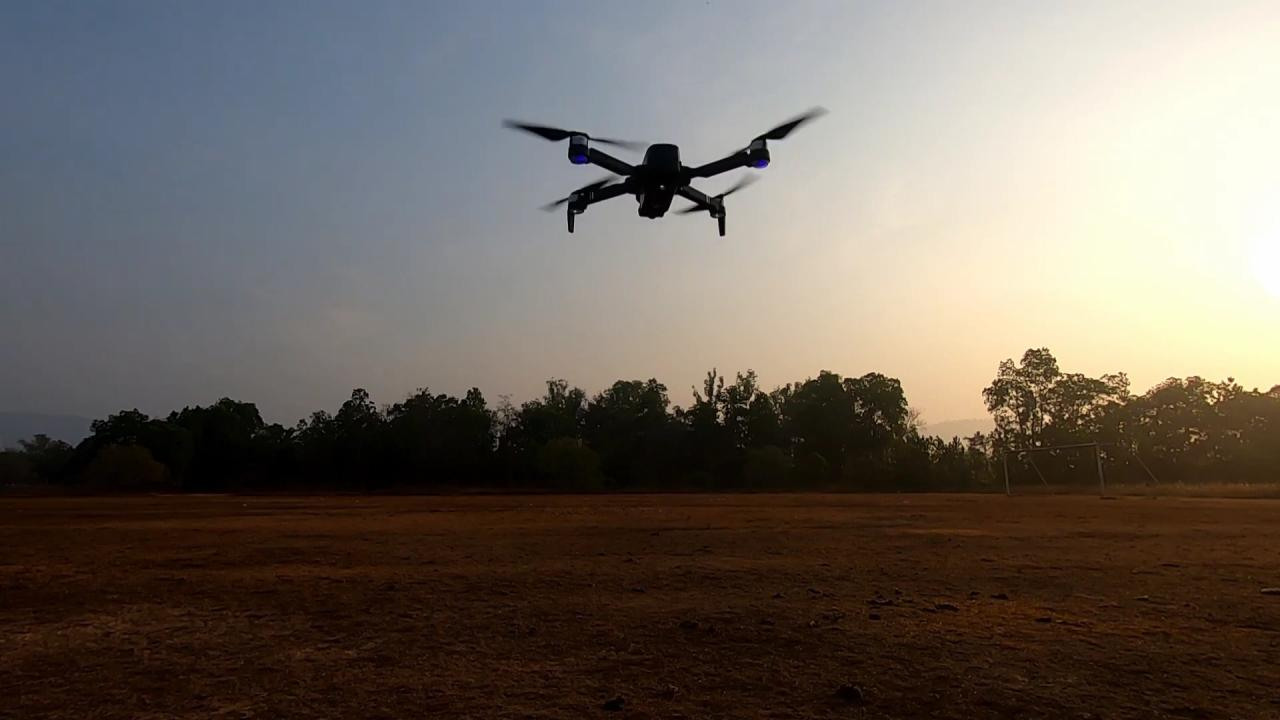Drone: (487, 92, 839, 252)
